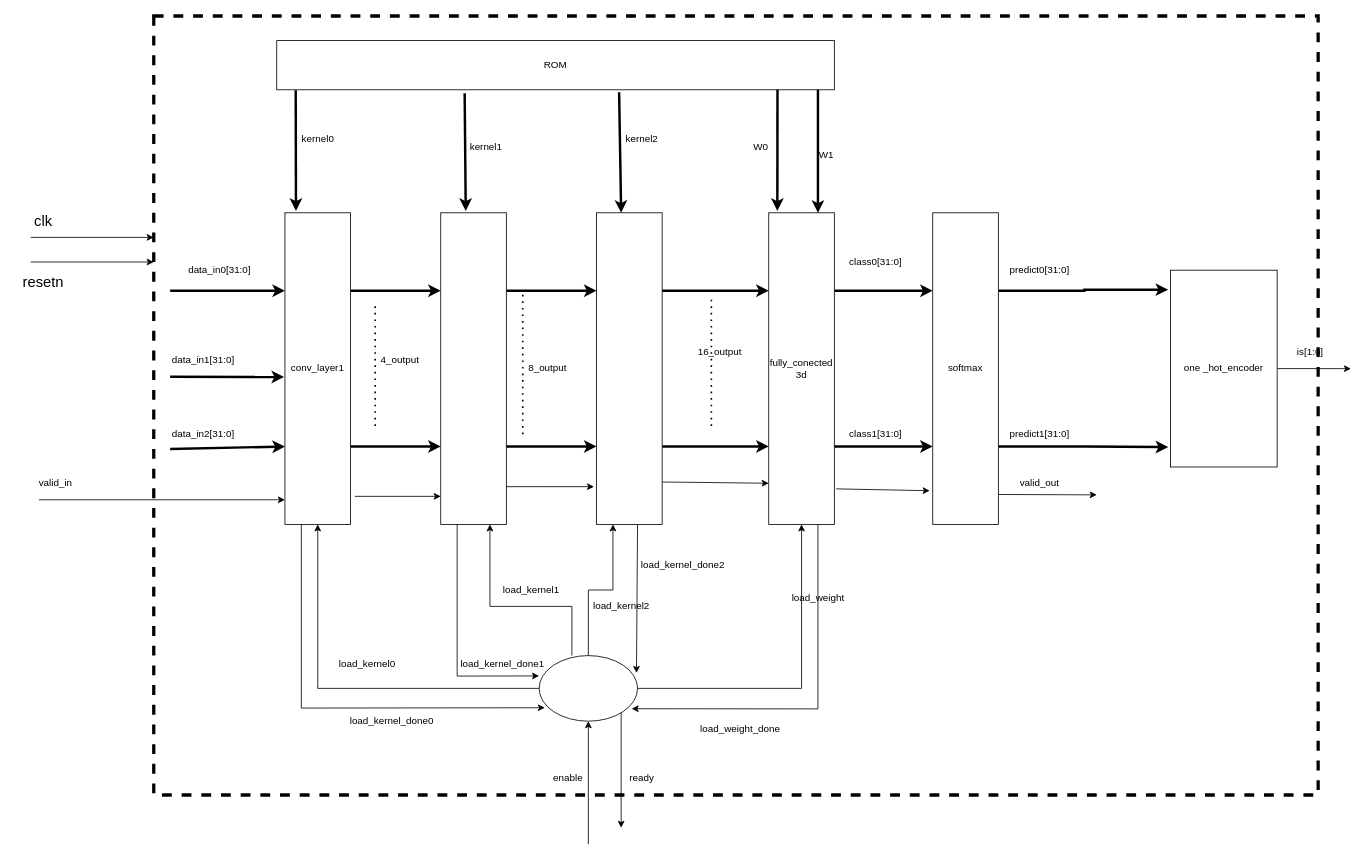
Some shapes in this 1372 by 865 pixel diagram are drawn without their labels. Each missing label, with the box of its shape:
controler: (538, 655, 638, 721)
conv_layer2: (440, 212, 506, 524)
conv_layer3: (596, 212, 662, 524)
